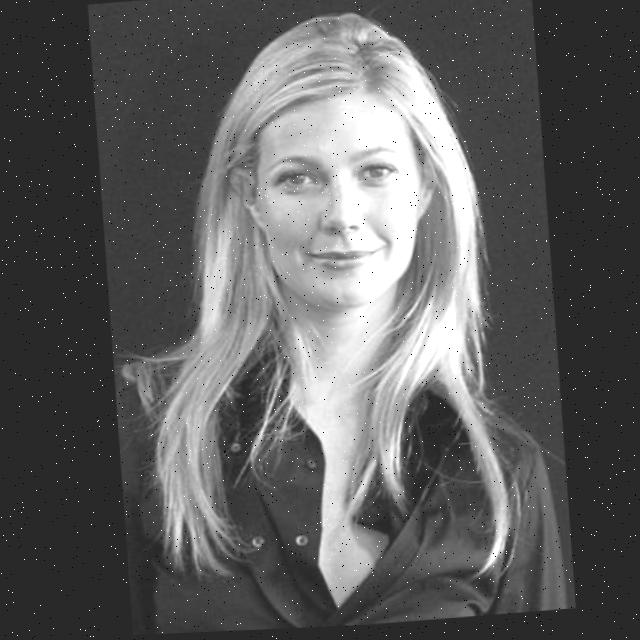face: (226, 67, 457, 315)
